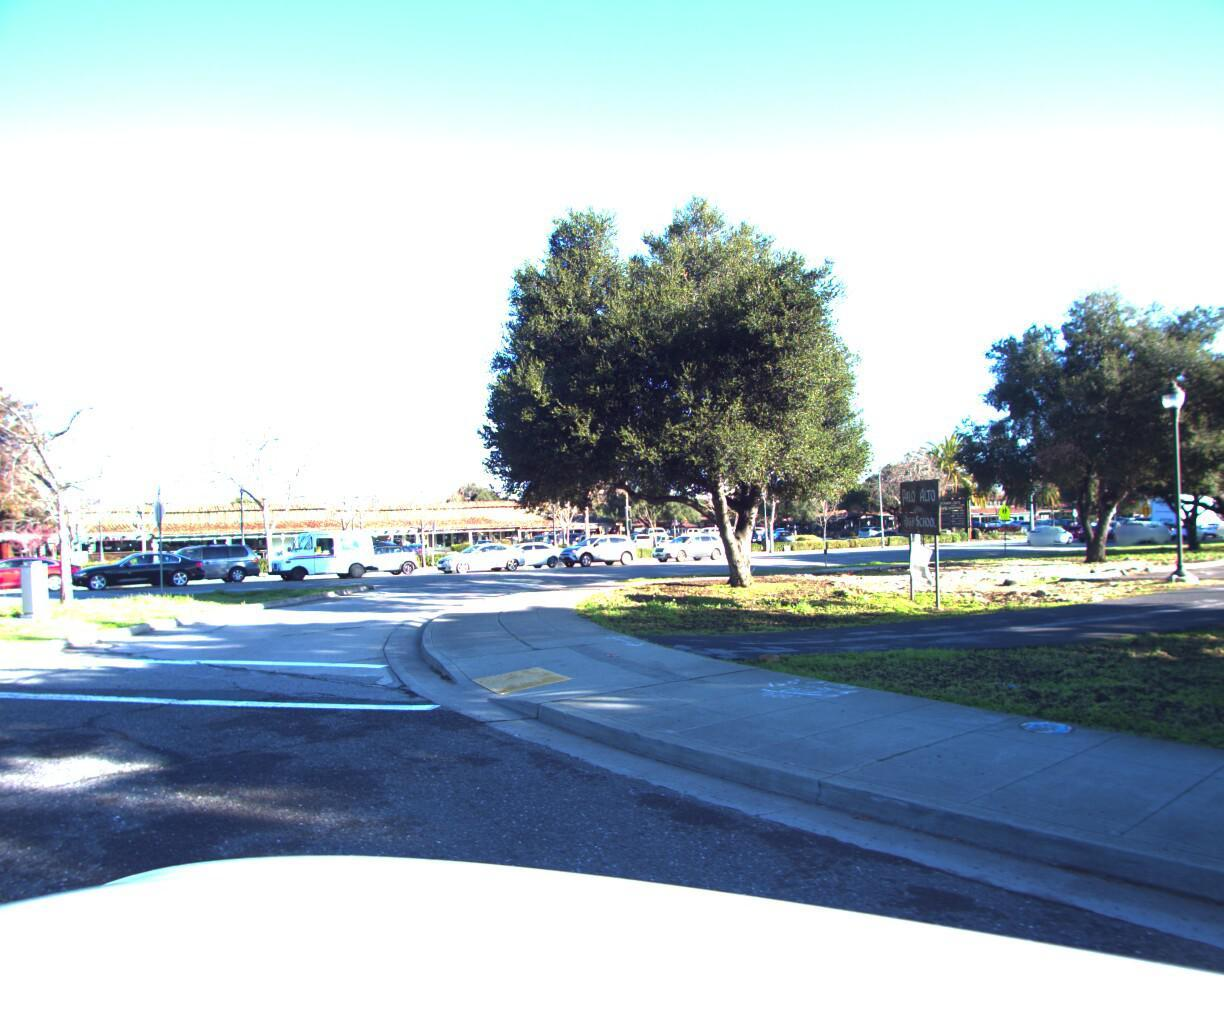car: (133, 536, 265, 582), (71, 541, 206, 585), (0, 547, 91, 592), (426, 534, 530, 569), (550, 527, 641, 563), (332, 539, 432, 573), (473, 535, 569, 567), (641, 526, 729, 558), (1114, 511, 1172, 537), (1019, 515, 1077, 539), (1161, 514, 1209, 534), (1189, 515, 1224, 533)
other_vehicle: (258, 522, 382, 578)
